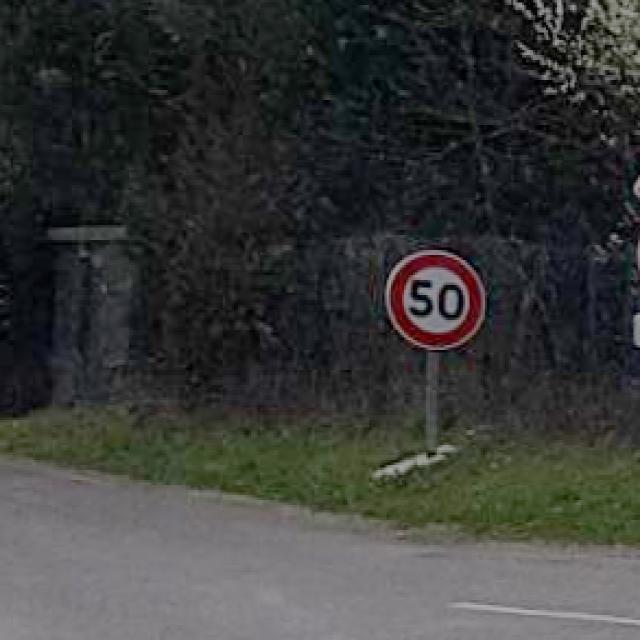speed_50: (389, 252, 486, 348)
